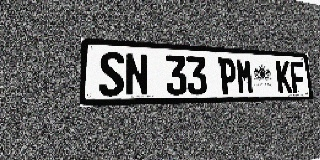3: (165, 55, 187, 95), (186, 56, 207, 95)
F: (289, 61, 306, 93)
K: (275, 60, 292, 94)
M: (235, 58, 254, 94)
N: (125, 53, 149, 96)
P: (218, 58, 238, 94)
S: (99, 51, 124, 96)
